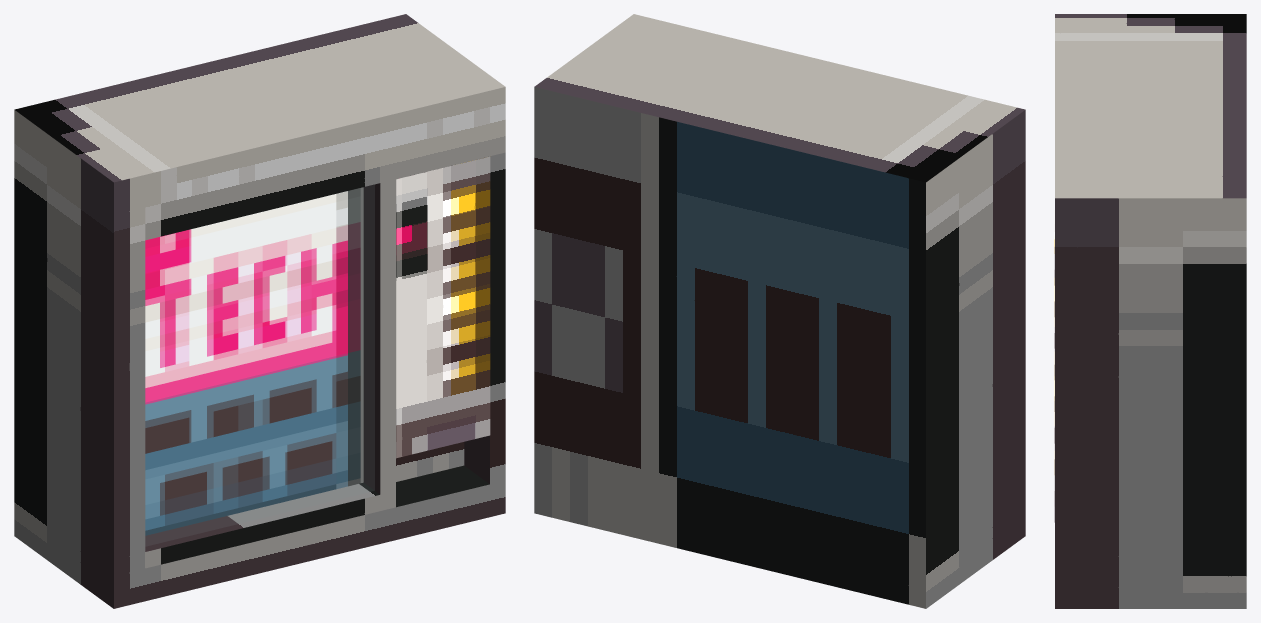
Rendered from vending_cart.glb.
3 renders of one model, left to right at view 1: azimuth 30°, elevation 25°; view 2: azimuth 150°, elevation 25°; view 3: azimuth 270°, elevation 25°, orthographic. The views are drawn at different scales.
Parts seen in each view (by area): view 1: vending_cart_Cabinet, vending_cart, vending_cart_Display_Glass, vending_cart_Delivery_Flap; view 2: vending_cart_Cabinet; view 3: vending_cart_Cabinet, vending_cart.
Part boxes in pixels (x1,y1,x2,y2): vending_cart_Cabinet: [14, 14, 505, 608]; vending_cart: [145, 156, 490, 535]; vending_cart_Display_Glass: [146, 185, 374, 545]; vending_cart_Delivery_Flap: [396, 442, 464, 481]; vending_cart_Cabinet: [534, 14, 1025, 608]; vending_cart_Cabinet: [1055, 14, 1246, 608]; vending_cart: [1054, 210, 1054, 522].
Size of the model in its own units: 1.5 by 1.56 by 0.662.
4 materials, 3 textured.
